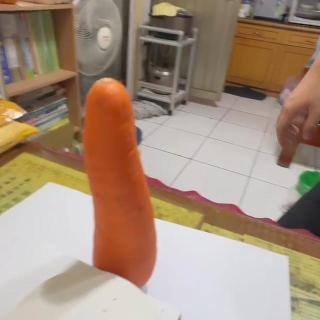carrot: (82, 77, 158, 290)
